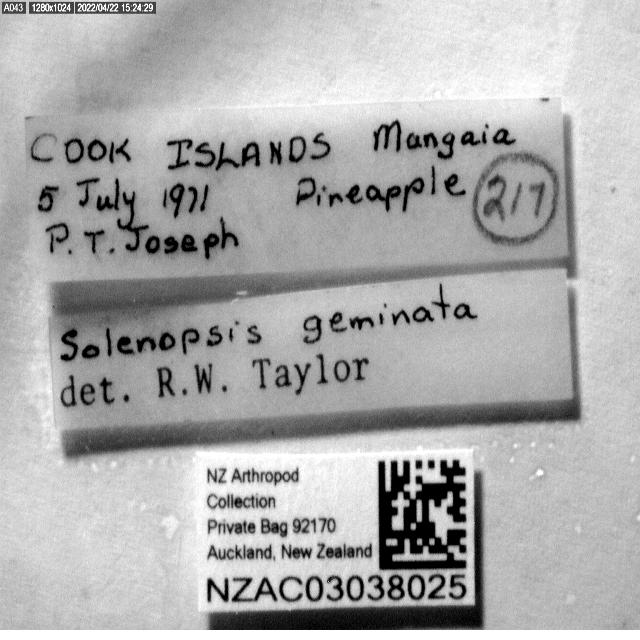hand_label: (26, 98, 568, 283)
mixed_label: (50, 269, 575, 453)
typed_label: (196, 450, 475, 612)
